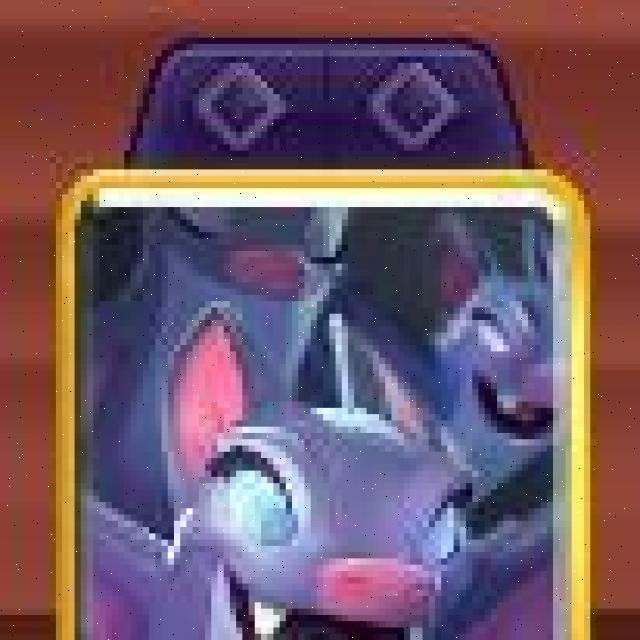Bats: (52, 167, 590, 640)
